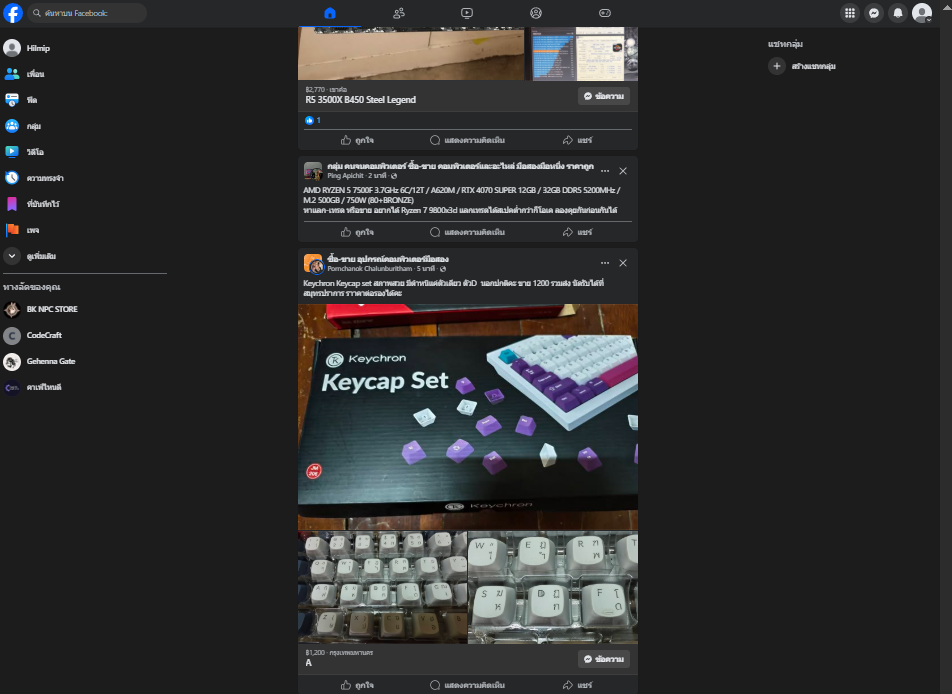topic: (298, 250, 640, 690), (297, 29, 640, 151), (297, 157, 642, 245)
